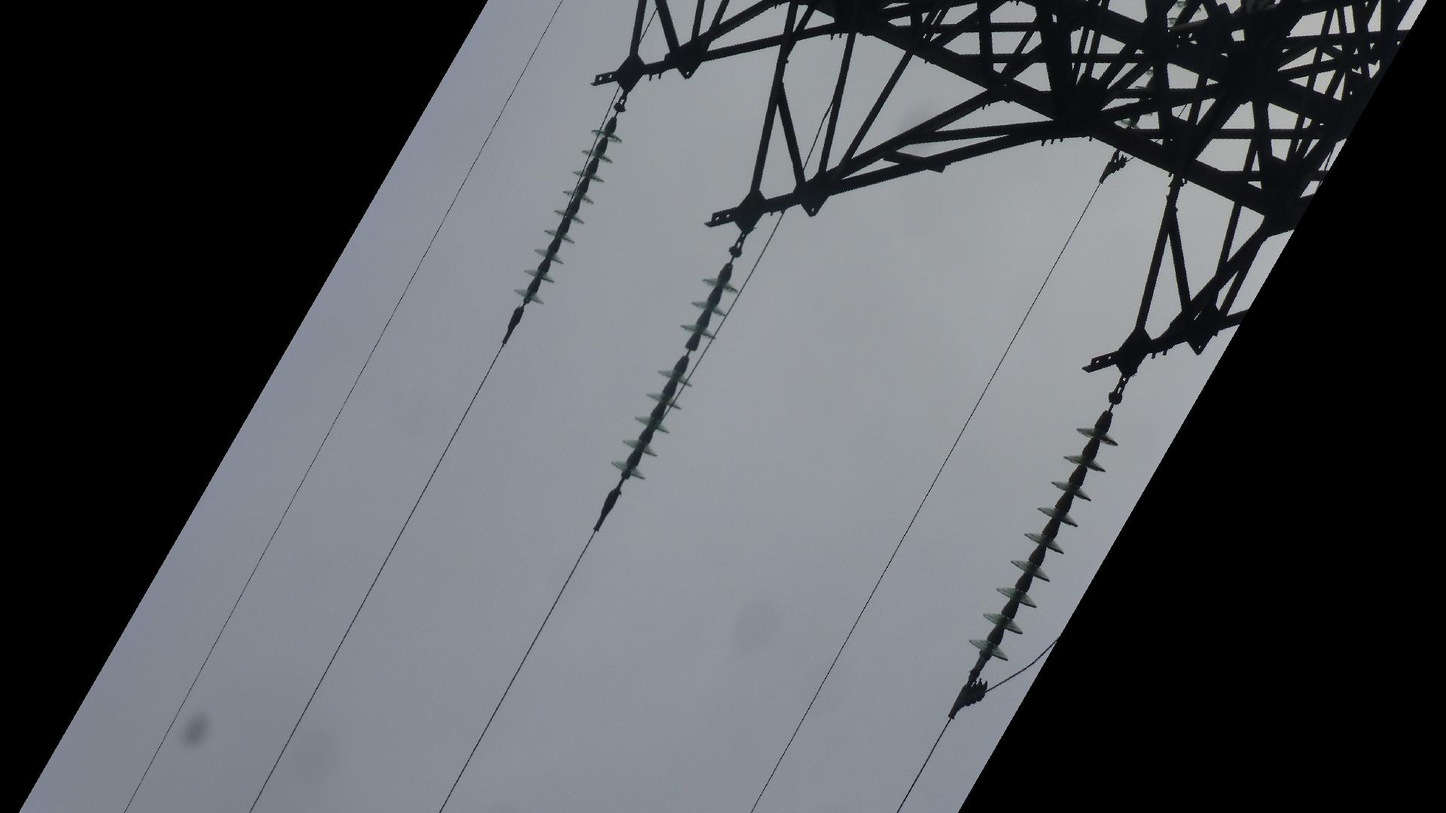insulator: (967, 422, 1121, 665), (607, 271, 739, 485), (511, 124, 627, 311)
insulator_stringdrop: (655, 321, 720, 391)
